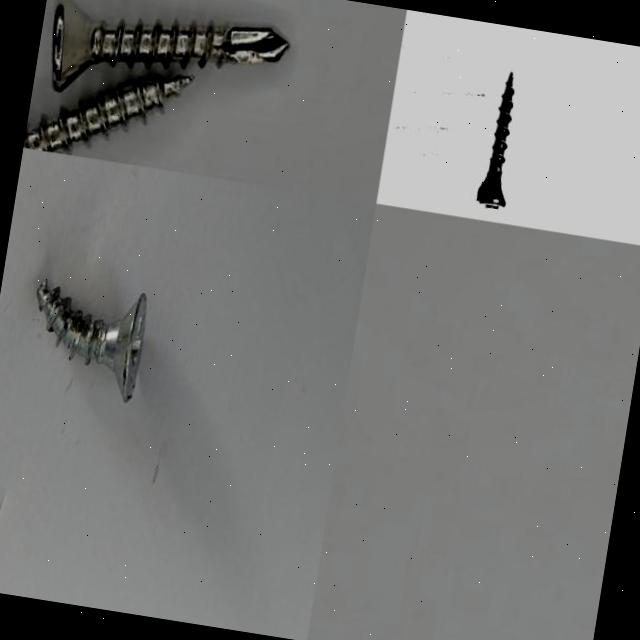Screw: (52, 0, 290, 92), (37, 281, 147, 404), (23, 77, 192, 154), (477, 74, 514, 211)
